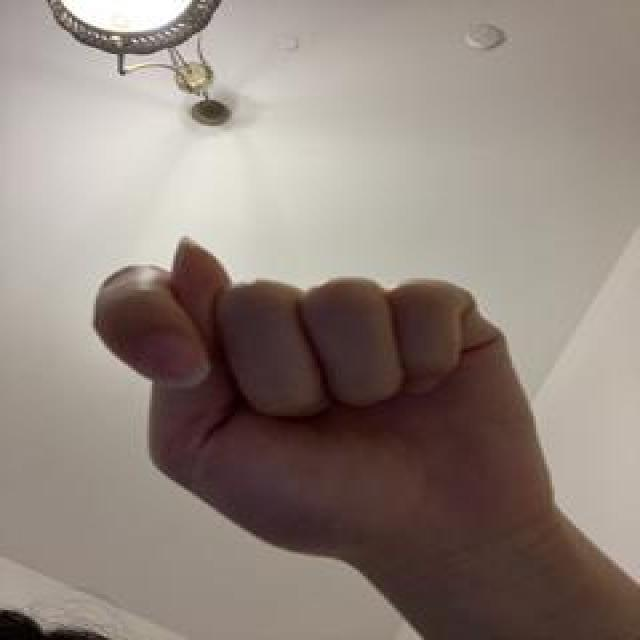T: (82, 234, 562, 582)
